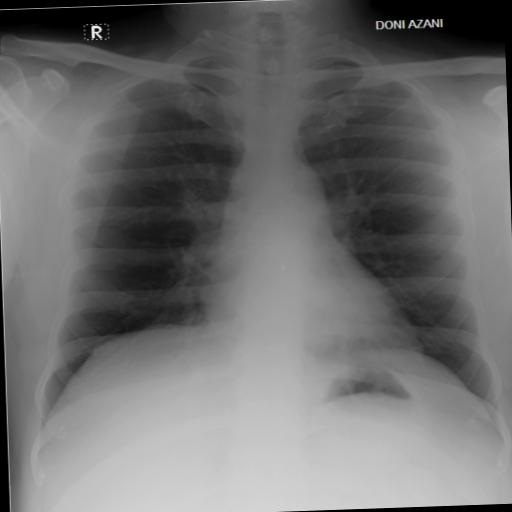normal: (9, 22, 510, 459)
